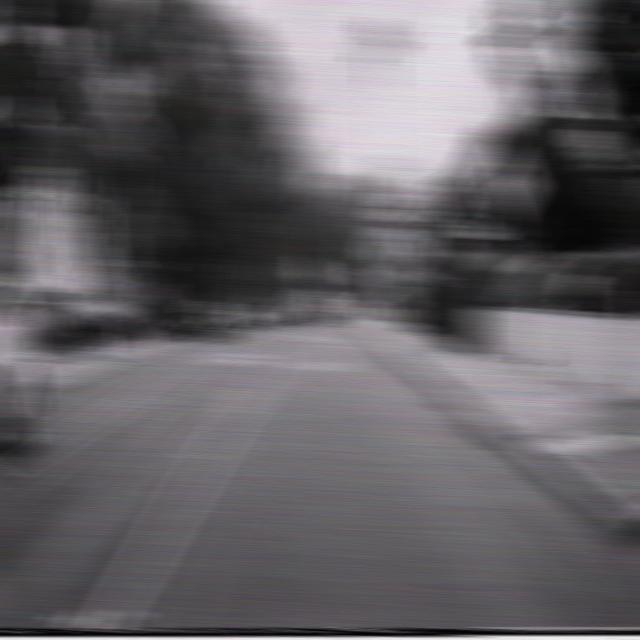pedestrianCrossing: (479, 143, 535, 222)
